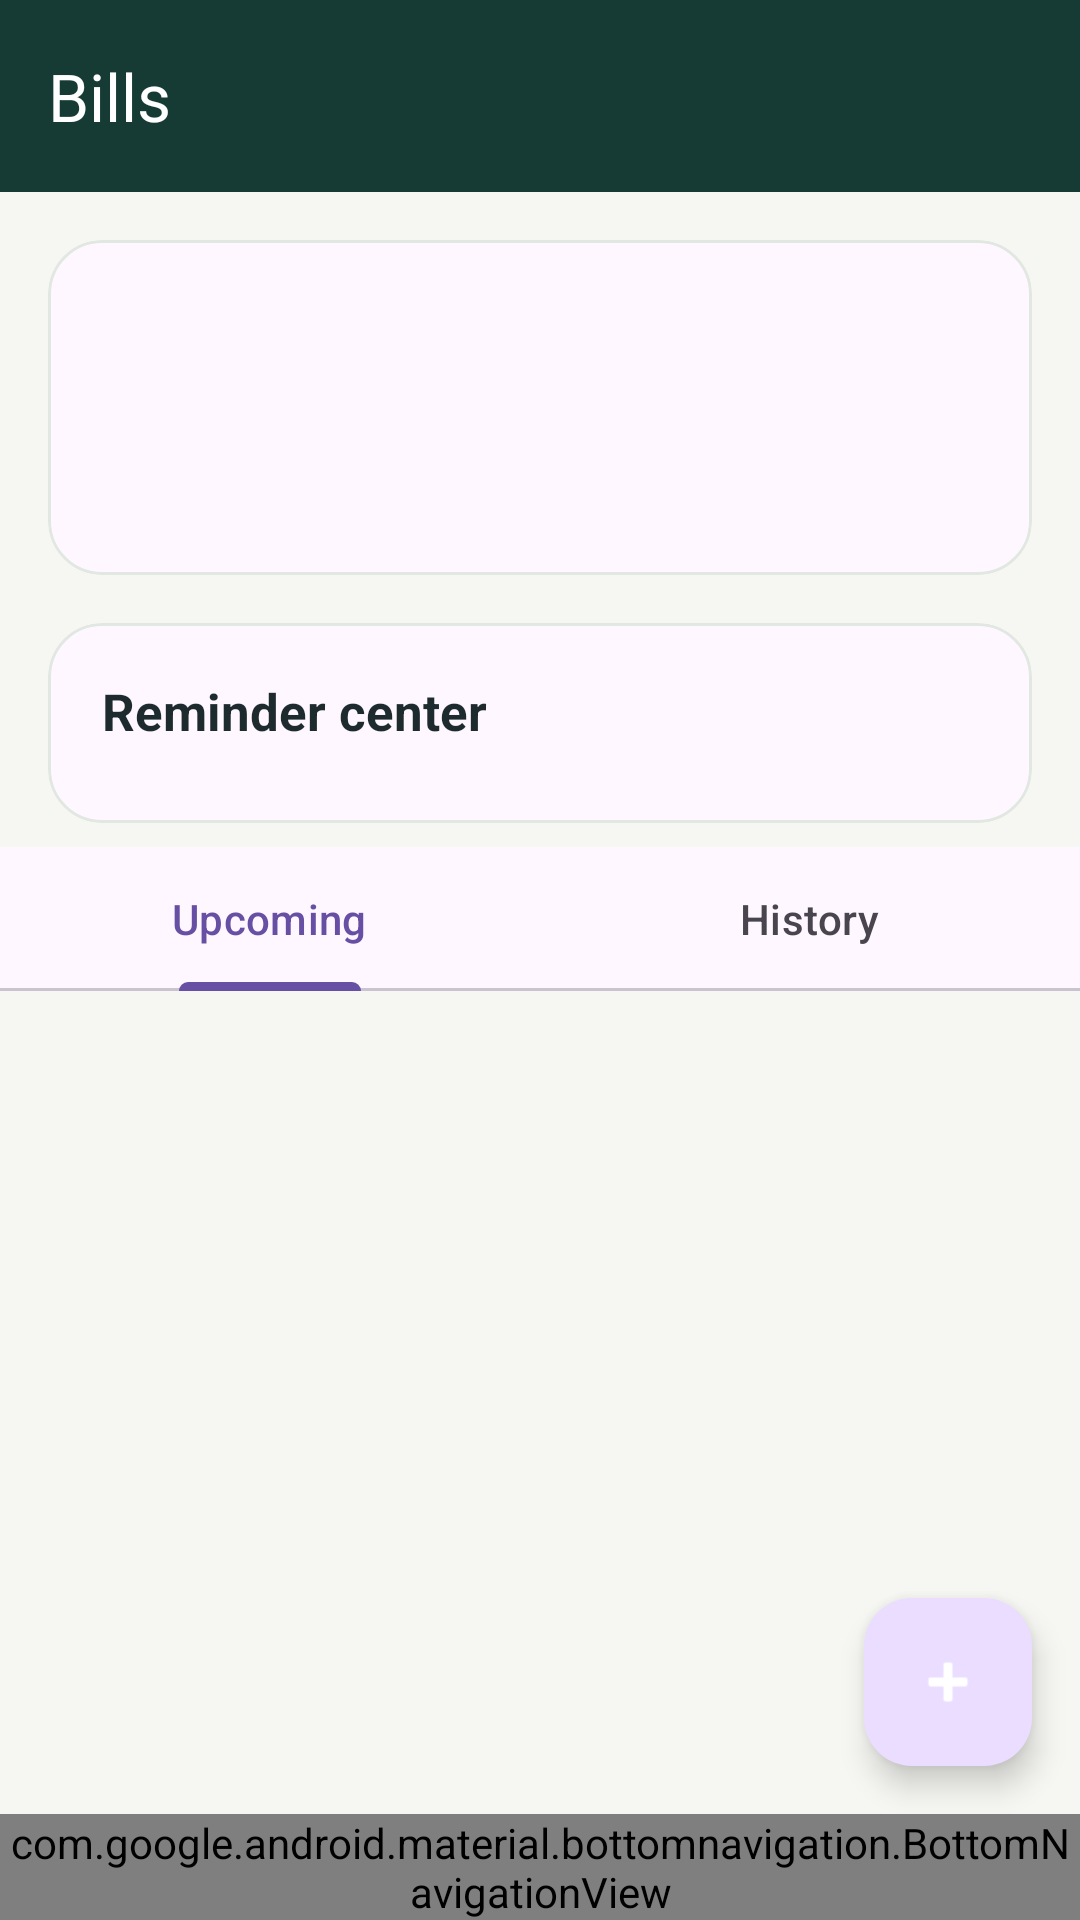

Icon bounding boxes for this 1080×1920 phone screenshot, format (x1, y1, x2, y2):
add: (864, 1598, 1032, 1766)
